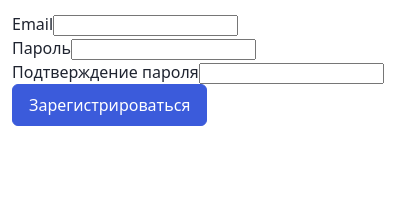
Scenario: SignupForm › показывает ошибку при неверном формате email
Type "not-an-email" into the field labelled "Email" at (146, 26), box [53,15,238,36]
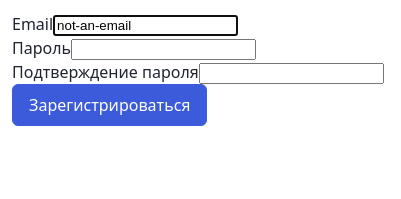
Type "password1" into the password field labelled "Пароль" at (164, 50), box [71,39,256,60]
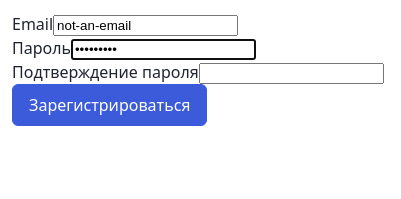
Type "password1" into the password field labelled "Подтверждение пароля" at (291, 74), box [199,63,384,84]
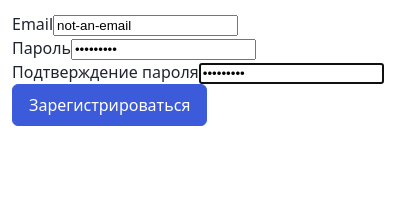
Click the button "Зарегистрироваться" at (110, 105), box [12,84,207,126]
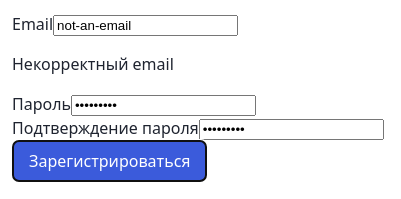
expect the text "Некорректный email" is shown: met, box [12,53,174,75]
